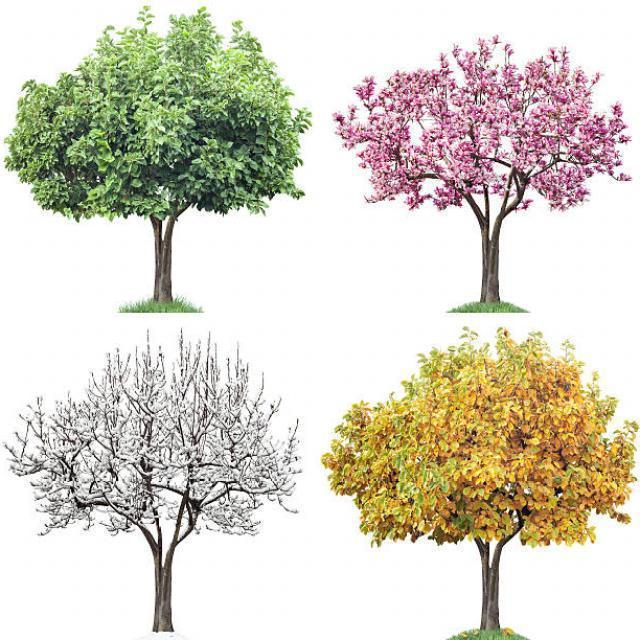tree: (322, 308, 634, 632), (6, 323, 294, 625), (6, 6, 304, 292), (336, 26, 638, 302)
